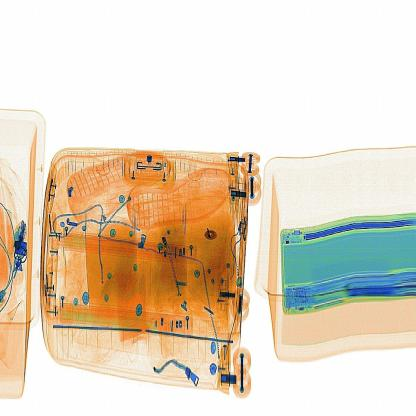wrench: (195, 218, 220, 249)
